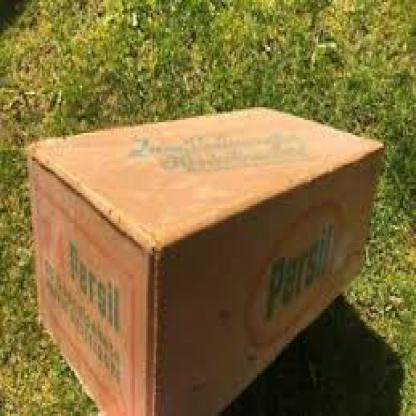CARDBOARD: (26, 105, 382, 414)
